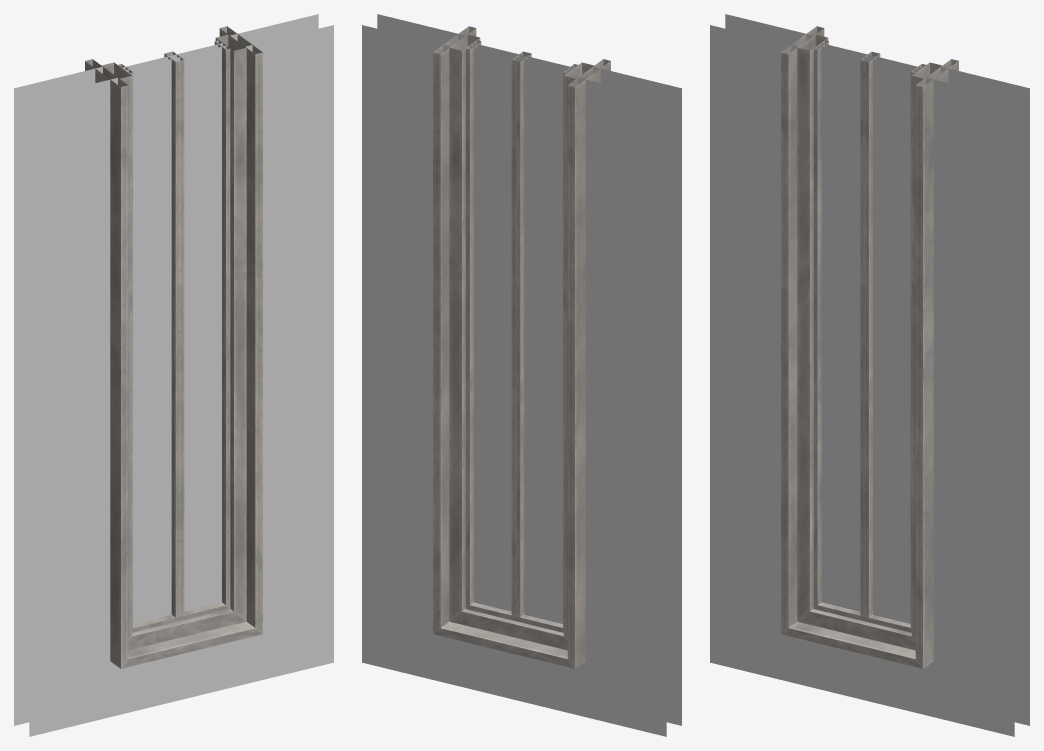
Rendered from Wall_Window_B_E.fbx.
The picture shows the model from 3 angles, left to right: view 1: azimuth 30°, elevation 25°; view 2: azimuth 150°, elevation 25°; view 3: azimuth 330°, elevation 25°; orthographic projection.
Parts seen in each view (by area): view 1: Wall_Window_B_E; view 2: Wall_Window_B_E; view 3: Wall_Window_B_E.
Boxes of the visible parts, x1,y1,x2,y2 form: Wall_Window_B_E: (14, 14, 333, 736); Wall_Window_B_E: (362, 14, 681, 736); Wall_Window_B_E: (710, 14, 1029, 736).
Size of the model in its own units: 3 by 0.6115 by 6.
